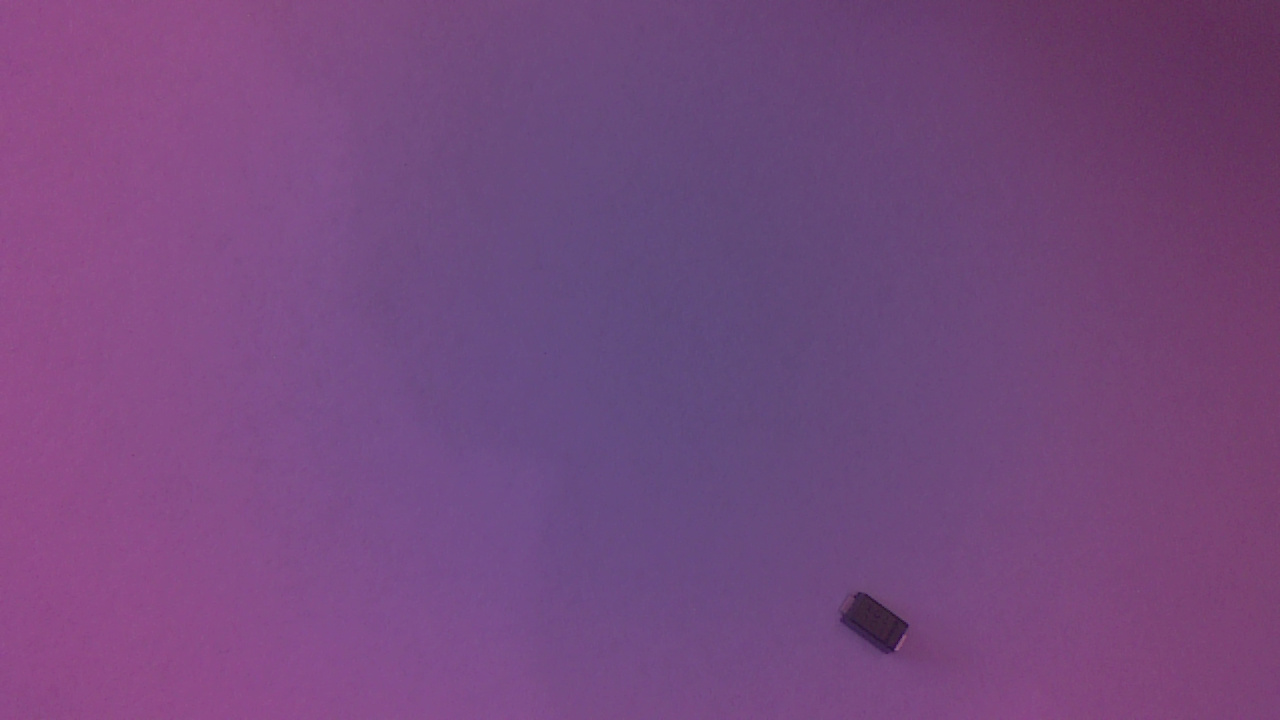Diode: (839, 591, 918, 666)
